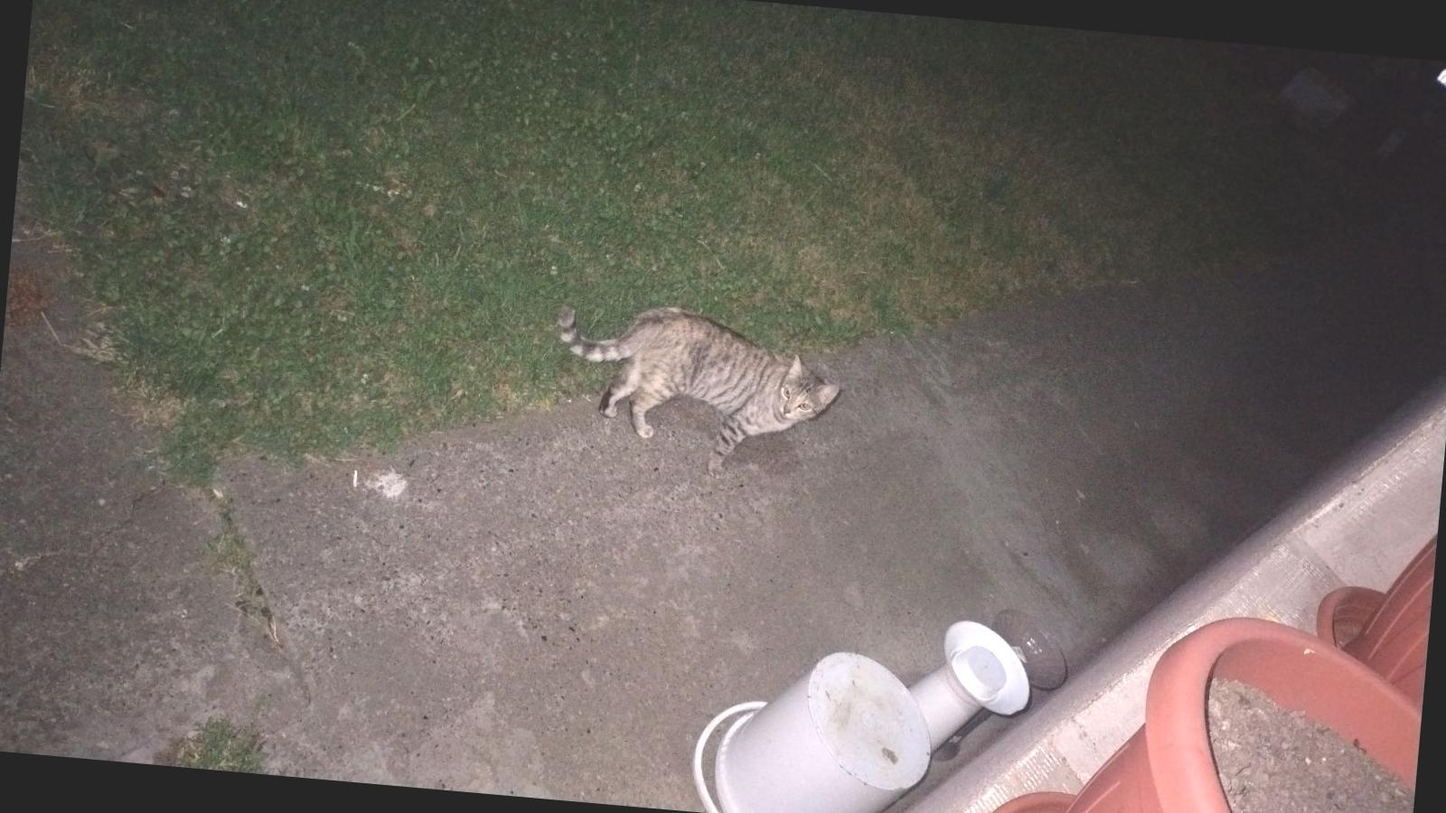macka: (547, 299, 845, 491)
